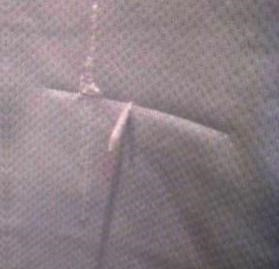snag: (102, 92, 143, 157)
